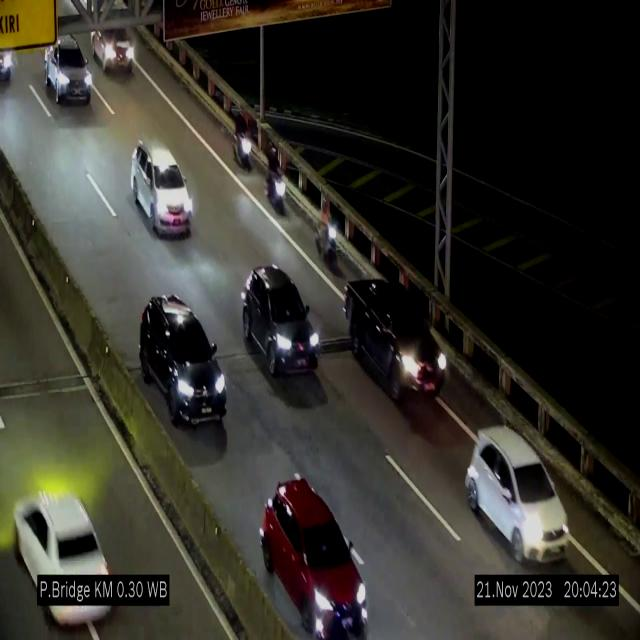Car: (261, 477, 368, 639), (9, 466, 111, 622), (466, 426, 570, 562), (343, 275, 447, 405), (139, 294, 227, 430), (240, 260, 322, 386), (131, 143, 193, 234), (90, 3, 140, 78), (44, 36, 92, 104)
Motorcycle: (264, 140, 288, 222), (317, 186, 339, 269), (232, 100, 254, 176)
